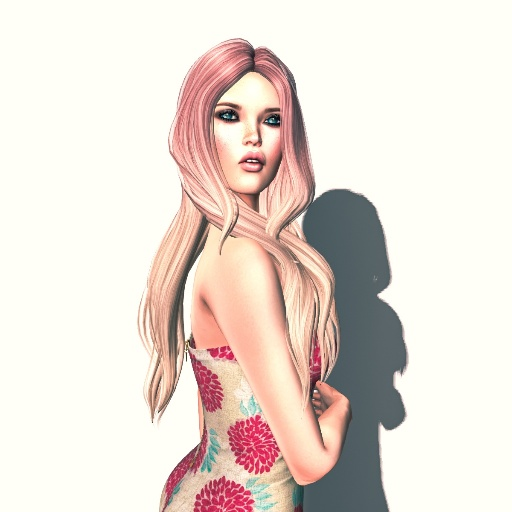hand: (308, 382, 350, 421)
